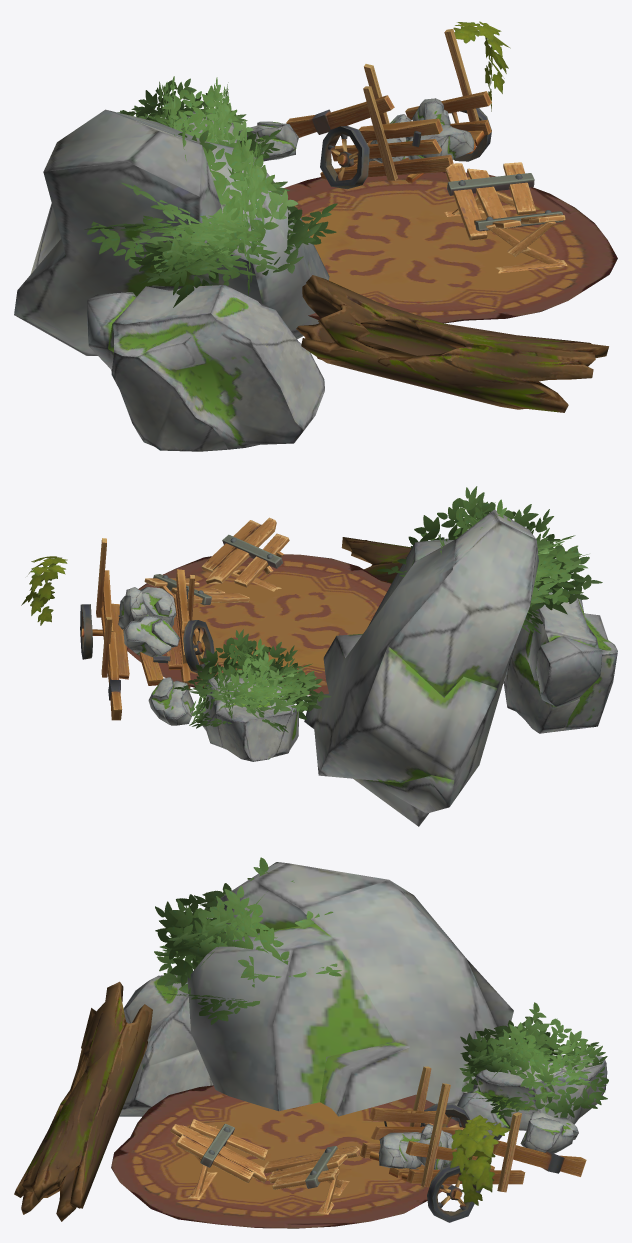
File: MainCityDecor_Builder_Ruins.glb
The picture shows the model from 3 angles, top to bottom: view 1: azimuth 30°, elevation 25°; view 2: azimuth 150°, elevation 25°; view 3: azimuth 270°, elevation 25°; orthographic projection. The views are drawn at different scales.
Visible parts, largest first — view 1: SM_Gray_Stone_Small_02_LOD0__un1022559728938663229, SM_Gray_Stone_Small_03_LOD0__un6745447895582326077, EnvCampsite_Detail__Rug__3_2__u3730154490936738499, EnvDetail_Deadwood___3_1__un675667767674617149, EnvDetail__Bush___20_5__u5646801281909113539, EnvCampsite_Detail__Cart__1__u2940732728219976387, EnvCampsite_Detail__Table__2__u4644819154864227011, EnvDetail__Bush___20_6__un216308502354214205, EnvCampsite_Detail__Grass__3_8__u6576015048355463875, SM_Gray_Stone_Small_02_LOD0__un2262544672539032893, SM_Gray_Stone_Small_02_LOD0__u7194416271494464195, SM_Gray_Stone_Small_02_LOD0_2__un4285540744105311549; view 2: SM_Gray_Stone_Small_02_LOD0__un1022559728938663229, EnvCampsite_Detail__Rug__3_2__u3730154490936738499, SM_Gray_Stone_Small_03_LOD0__un6745447895582326077, EnvDetail__Bush___20_6__un216308502354214205, EnvCampsite_Detail__Cart__1__u2940732728219976387, EnvDetail__Bush___20_5__u5646801281909113539, EnvCampsite_Detail__Table__2__u4644819154864227011, SM_Gray_Stone_Small_03_LOD0__u6644584898422817475, SM_Gray_Stone_Small_02_LOD0_1__un7971153190341066045, EnvDetail_Deadwood___3_1__un675667767674617149, SM_Gray_Stone_Small_02_LOD0__u7194416271494464195, EnvCampsite_Detail__Grass__3_8__u6576015048355463875 (+2 smaller); view 3: SM_Gray_Stone_Small_02_LOD0__un1022559728938663229, EnvCampsite_Detail__Rug__3_2__u3730154490936738499, EnvDetail_Deadwood___3_1__un675667767674617149, EnvDetail__Bush___20_6__un216308502354214205, EnvDetail__Bush___20_5__u5646801281909113539, EnvCampsite_Detail__Cart__1__u2940732728219976387, SM_Gray_Stone_Small_03_LOD0__un6745447895582326077, EnvCampsite_Detail__Table__2__u4644819154864227011, SM_Gray_Stone_Small_03_LOD0__u6644584898422817475, EnvCampsite_Detail__Grass__3_8__u6576015048355463875, SM_Gray_Stone_Small_02_LOD0__u7194416271494464195, SM_Gray_Stone_Small_02_LOD0__un2262544672539032893 (+1 smaller).
Boxes of the visible parts, x1=… form: SM_Gray_Stone_Small_02_LOD0__un1022559728938663229: x1=14, y1=109, x2=329, y2=371; SM_Gray_Stone_Small_03_LOD0__un6745447895582326077: x1=87, y1=285, x2=324, y2=451; EnvCampsite_Detail__Rug__3_2__u3730154490936738499: x1=283, y1=172, x2=617, y2=323; EnvDetail_Deadwood___3_1__un675667767674617149: x1=296, y1=275, x2=608, y2=412; EnvDetail__Bush___20_5__u5646801281909113539: x1=84, y1=127, x2=337, y2=307; EnvCampsite_Detail__Cart__1__u2940732728219976387: x1=286, y1=29, x2=491, y2=189; EnvCampsite_Detail__Table__2__u4644819154864227011: x1=444, y1=162, x2=567, y2=273; EnvDetail__Bush___20_6__un216308502354214205: x1=117, y1=76, x2=280, y2=158; EnvCampsite_Detail__Grass__3_8__u6576015048355463875: x1=453, y1=21, x2=510, y2=111; SM_Gray_Stone_Small_02_LOD0__un2262544672539032893: x1=405, y1=124, x2=474, y2=159; SM_Gray_Stone_Small_02_LOD0__u7194416271494464195: x1=239, y1=121, x2=298, y2=161; SM_Gray_Stone_Small_02_LOD0_2__un4285540744105311549: x1=412, y1=98, x2=450, y2=125; SM_Gray_Stone_Small_02_LOD0__un1022559728938663229: x1=304, y1=509, x2=538, y2=826; EnvCampsite_Detail__Rug__3_2__u3730154490936738499: x1=126, y1=554, x2=391, y2=695; SM_Gray_Stone_Small_03_LOD0__un6745447895582326077: x1=503, y1=588, x2=617, y2=733; EnvDetail__Bush___20_6__un216308502354214205: x1=174, y1=629, x2=331, y2=732; EnvCampsite_Detail__Cart__1__u2940732728219976387: x1=80, y1=538, x2=214, y2=720; EnvDetail__Bush___20_5__u5646801281909113539: x1=377, y1=486, x2=602, y2=633; EnvCampsite_Detail__Table__2__u4644819154864227011: x1=144, y1=517, x2=289, y2=631; SM_Gray_Stone_Small_03_LOD0__u6644584898422817475: x1=200, y1=673, x2=298, y2=761; SM_Gray_Stone_Small_02_LOD0_1__un7971153190341066045: x1=123, y1=616, x2=179, y2=657; EnvDetail_Deadwood___3_1__un675667767674617149: x1=341, y1=537, x2=410, y2=583; SM_Gray_Stone_Small_02_LOD0__u7194416271494464195: x1=148, y1=677, x2=193, y2=725; EnvCampsite_Detail__Grass__3_8__u6576015048355463875: x1=21, y1=556, x2=67, y2=625; SM_Gray_Stone_Small_02_LOD0__un1022559728938663229: x1=187, y1=862, x2=513, y2=1116; EnvCampsite_Detail__Rug__3_2__u3730154490936738499: x1=111, y1=1085, x2=459, y2=1228; EnvDetail_Deadwood___3_1__un675667767674617149: x1=14, y1=981, x2=152, y2=1221; EnvDetail__Bush___20_6__un216308502354214205: x1=459, y1=1002, x2=608, y2=1119; EnvDetail__Bush___20_5__u5646801281909113539: x1=154, y1=857, x2=341, y2=1024; EnvCampsite_Detail__Cart__1__u2940732728219976387: x1=360, y1=1066, x2=586, y2=1222; SM_Gray_Stone_Small_03_LOD0__un6745447895582326077: x1=119, y1=974, x2=213, y2=1116; EnvCampsite_Detail__Table__2__u4644819154864227011: x1=170, y1=1119, x2=360, y2=1214; SM_Gray_Stone_Small_03_LOD0__u6644584898422817475: x1=451, y1=1054, x2=607, y2=1140; EnvCampsite_Detail__Grass__3_8__u6576015048355463875: x1=450, y1=1115, x2=510, y2=1205; SM_Gray_Stone_Small_02_LOD0__u7194416271494464195: x1=520, y1=1111, x2=578, y2=1153; SM_Gray_Stone_Small_02_LOD0__un2262544672539032893: x1=378, y1=1132, x2=421, y2=1168.
Size of the model in its own units: 8.51 by 4.89 by 8.68.
7 materials, 7 textured.
